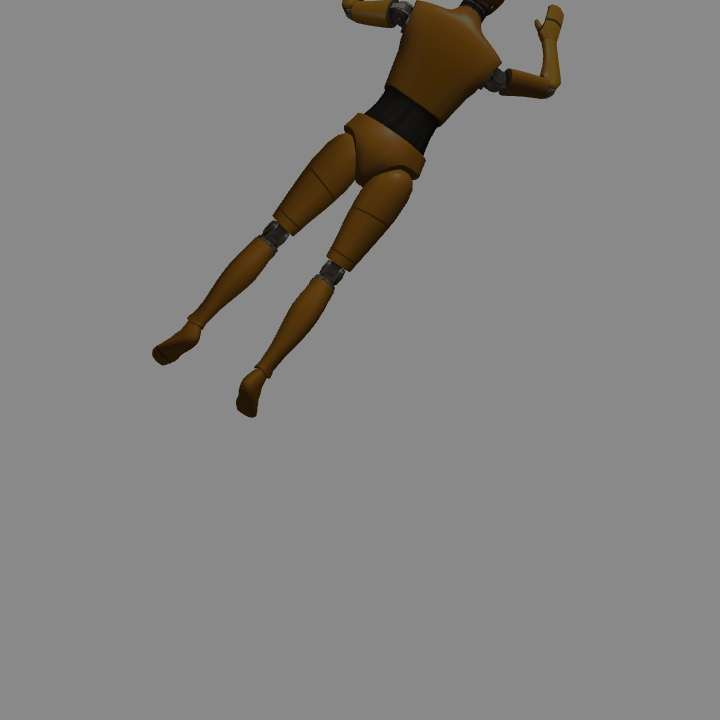victim: (159, 1, 562, 418)
